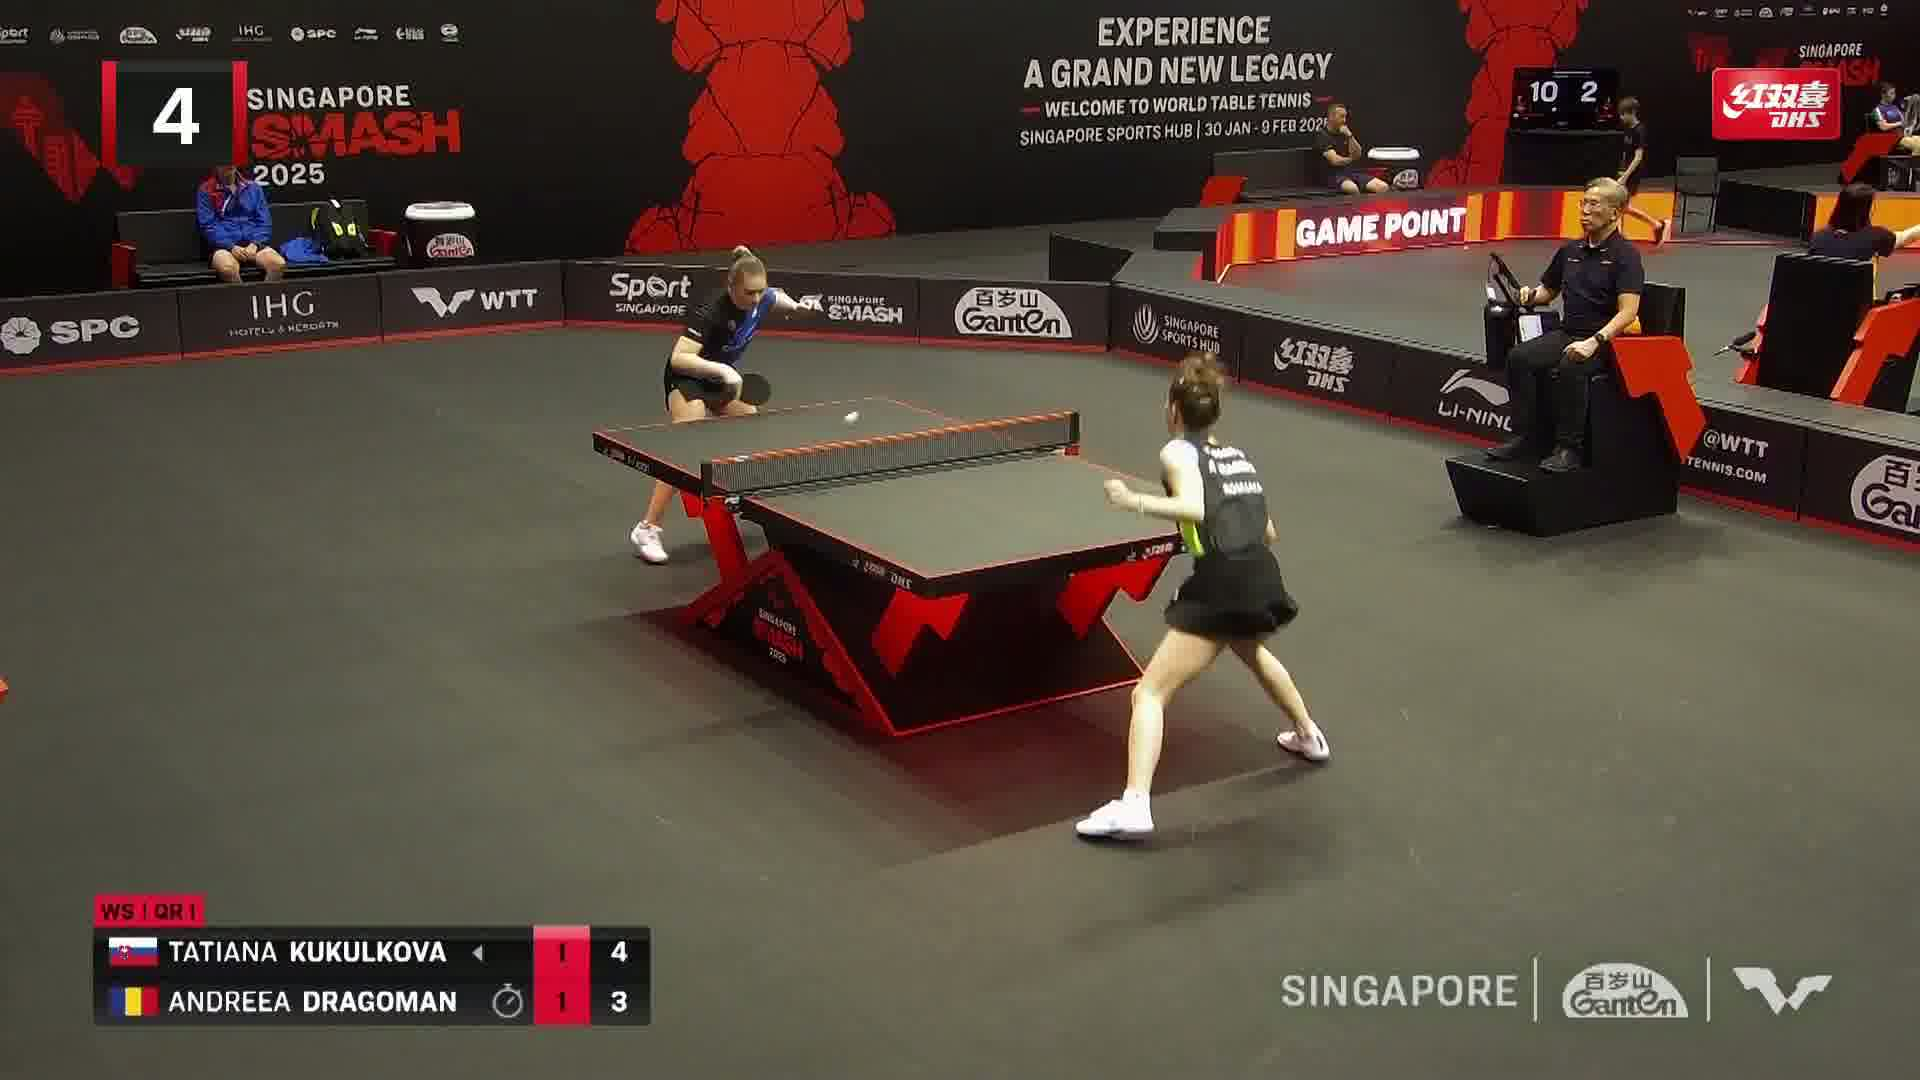table_tennis_ball: (844, 410, 860, 426)
